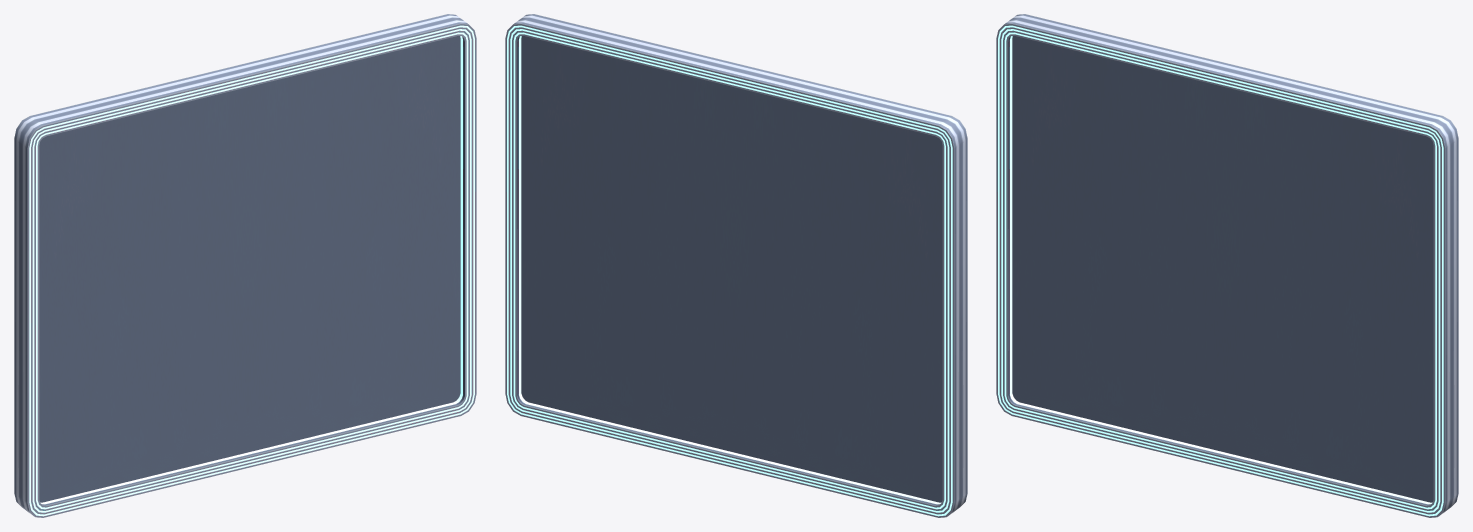
The model's file is obj_governance06.gltf.
3 renders of one model, left to right at view 1: azimuth 30°, elevation 25°; view 2: azimuth 150°, elevation 25°; view 3: azimuth 330°, elevation 25°, orthographic.
Visible parts, largest first — view 1: obj_governance06; view 2: obj_governance06; view 3: obj_governance06.
Part boxes in pixels (bbox=[...]): obj_governance06: bbox=[14, 14, 476, 517]; obj_governance06: bbox=[505, 14, 967, 517]; obj_governance06: bbox=[996, 14, 1458, 517].
Size of what is drawn, in the model's own units: 3.22 by 2.68 by 0.1666.
2 materials, 1 textured.
